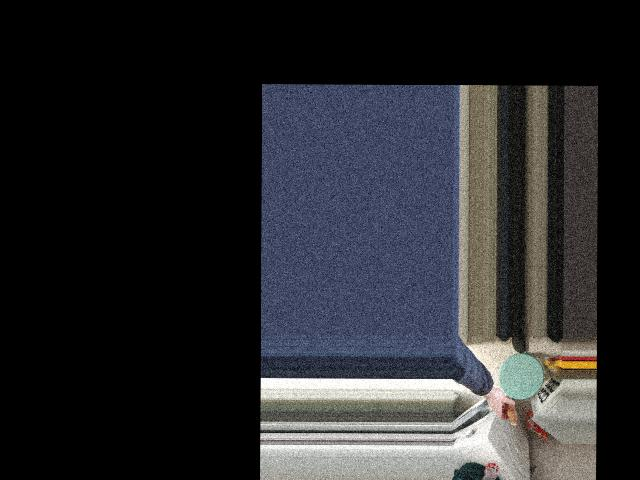sweet_potato: (496, 388, 517, 425)
